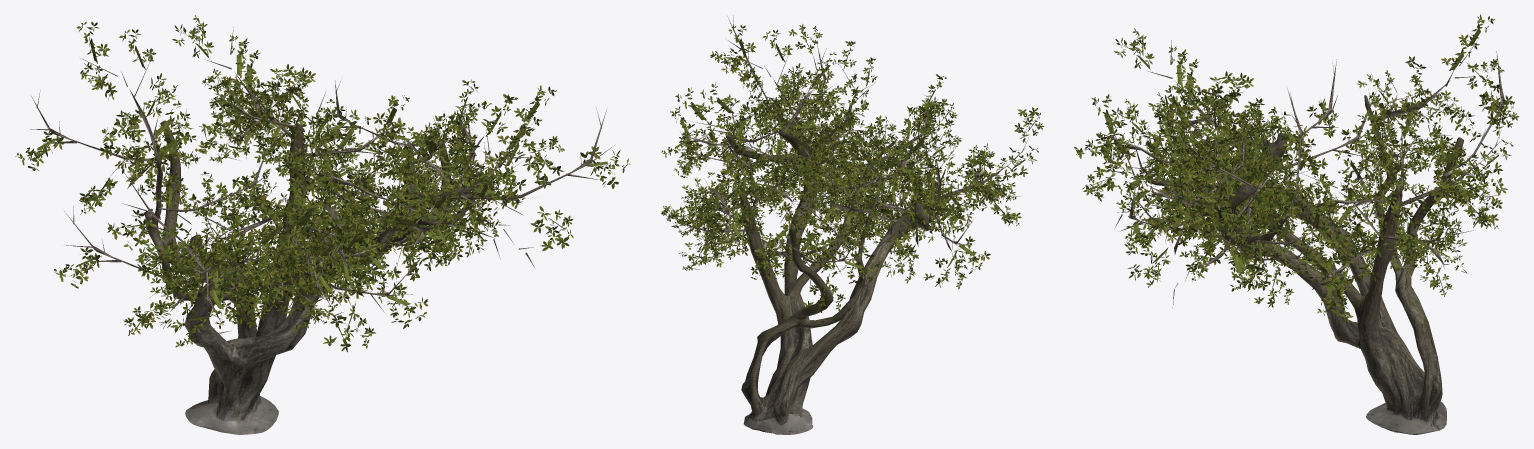
The model's file is NaturalBroadleafSpreading.glb.
3 views of the same model, side by side, from view 1: azimuth 30°, elevation 25°; view 2: azimuth 150°, elevation 25°; view 3: azimuth 270°, elevation 25° (orthographic). The views are drawn at different scales.
Visible parts, largest first — view 1: VANA natural broadleaf.002, VANA natural broadleaf.001, VANA natural broadleaf; view 2: VANA natural broadleaf.002, VANA natural broadleaf.001, VANA natural broadleaf; view 3: VANA natural broadleaf.002, VANA natural broadleaf.001, VANA natural broadleaf.
Boxes of the visible parts, x1,y1,x2,y2 form: VANA natural broadleaf.002: (15,15,630,352); VANA natural broadleaf.001: (144,120,487,434); VANA natural broadleaf: (30,27,614,342); VANA natural broadleaf.002: (661,24,1044,312); VANA natural broadleaf.001: (726,113,937,434); VANA natural broadleaf: (668,15,1028,289); VANA natural broadleaf.002: (1074,14,1519,322); VANA natural broadleaf.001: (1148,95,1463,434); VANA natural broadleaf: (1101,40,1509,307).
Size of the model in its own units: 9.89 by 8 by 9.07.
3 materials, 3 textured.
